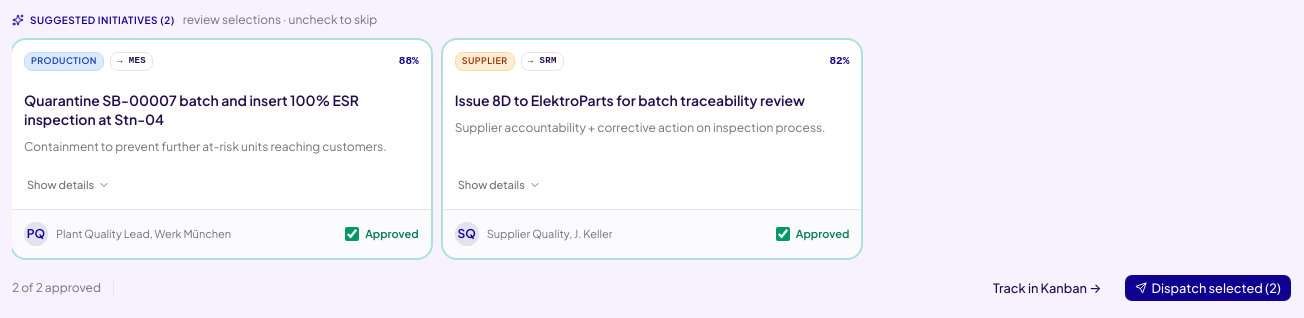
Test: InitiativesPreview › decrements approval count when a checkbox is unchecked
Click the checkbox named "Approve initiative Quarantine SB-00007 batch". click: (352, 234)
box: [345,227,359,241]
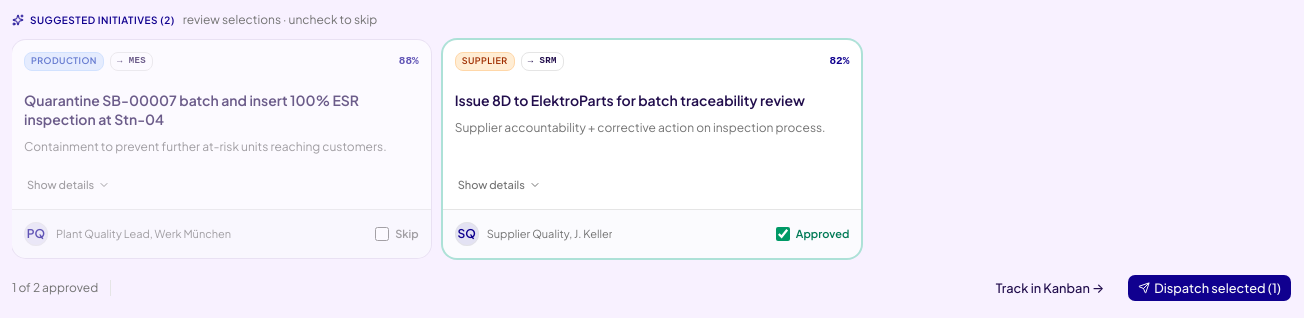
Expected: the checkbox named "Approve initiative Quarantine SB-00007 batch" is not checked, [375,227,389,241]
Expected: the text "1 of 2 approved" is shown, [12,280,98,296]
